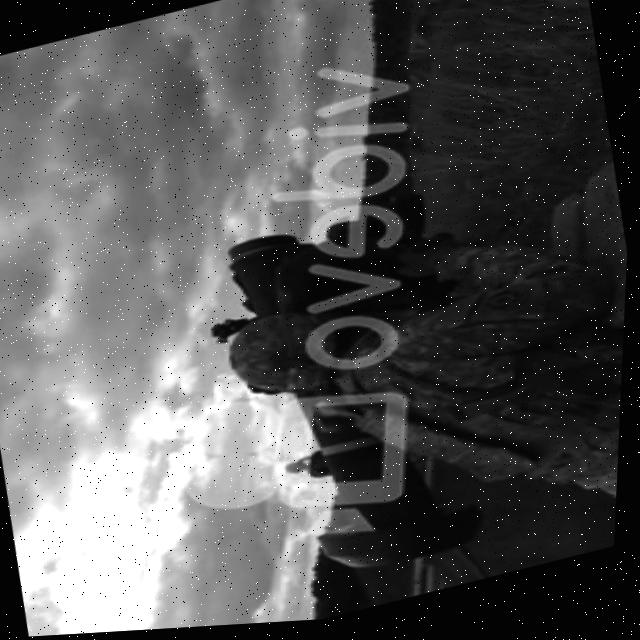rocket: (261, 347, 523, 612)
